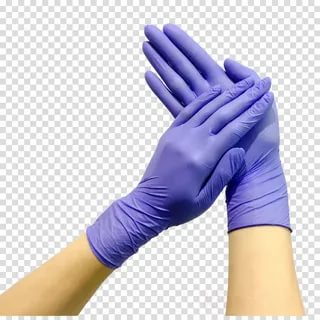gloves: (75, 74, 275, 270), (139, 21, 296, 235)
